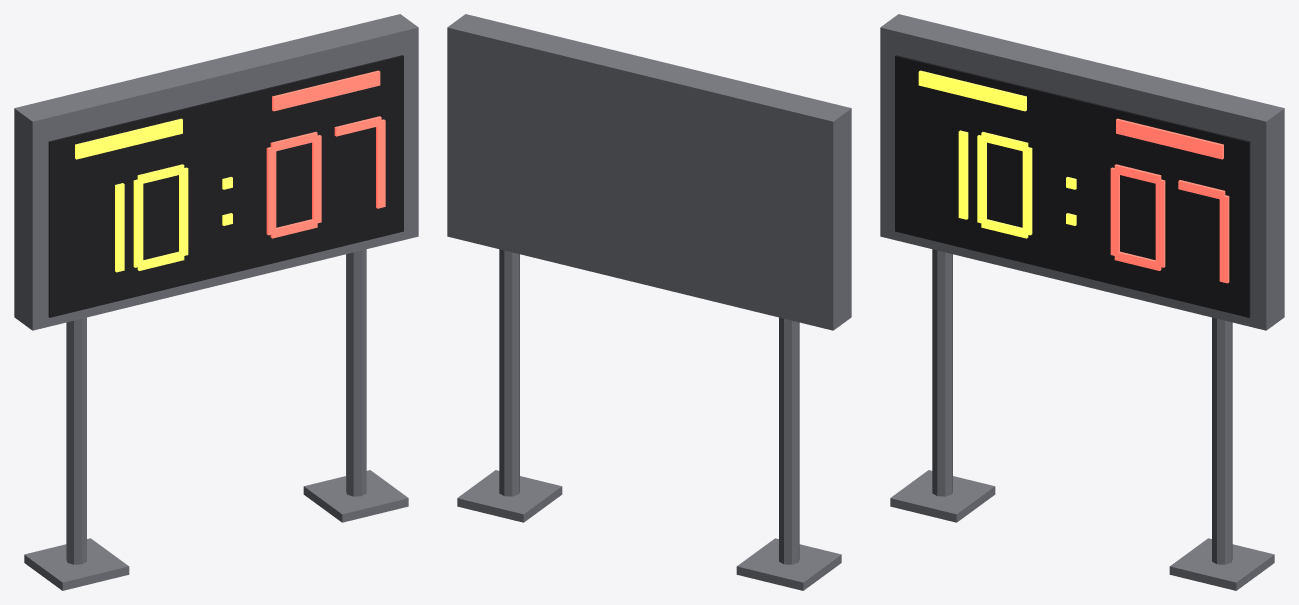
File: scoreboard.glb
The picture shows the model from 3 angles, left to right: view 1: azimuth 30°, elevation 25°; view 2: azimuth 150°, elevation 25°; view 3: azimuth 330°, elevation 25°; orthographic projection.
Parts seen in each view (by area): view 1: scoreboard; view 2: scoreboard; view 3: scoreboard.
Part boxes in pixels (x1,y1,x2,y2): scoreboard: [14, 14, 418, 590]; scoreboard: [447, 14, 851, 590]; scoreboard: [880, 14, 1284, 590].
Bounding box in the file's own units: 2.9 × 3.35 × 0.5.
